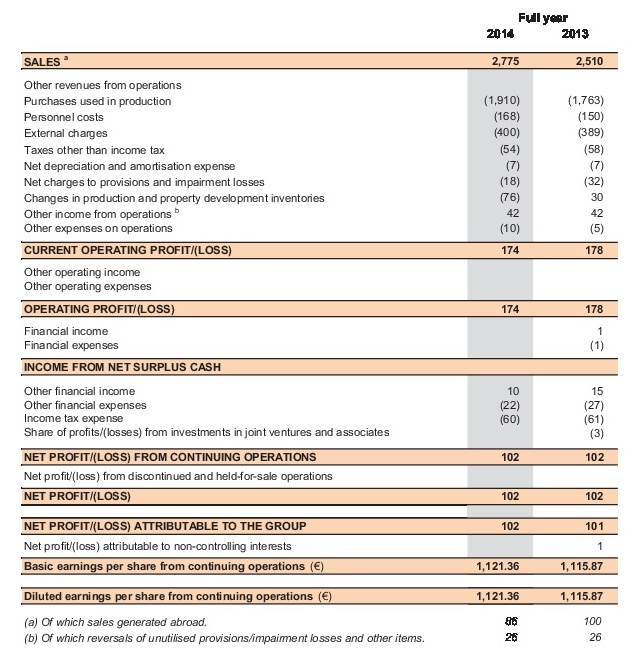table: (0, 0, 633, 661)
